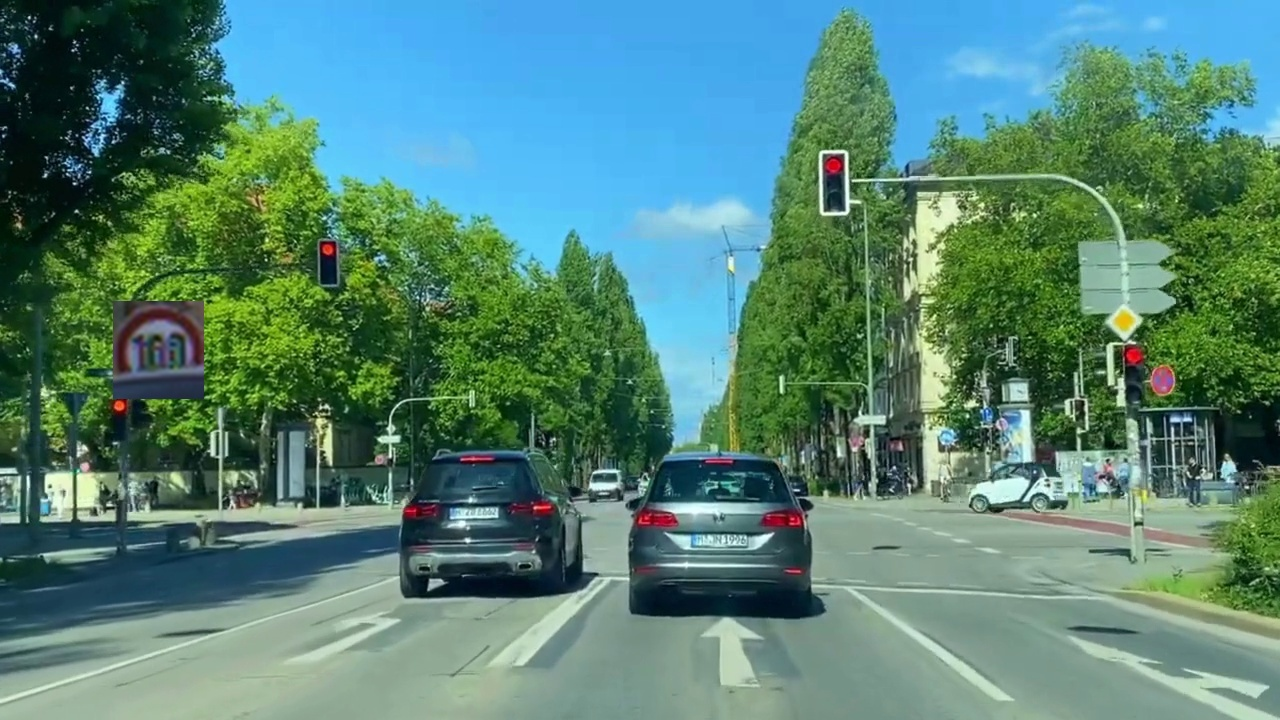Speed 100: (113, 301, 204, 399)
